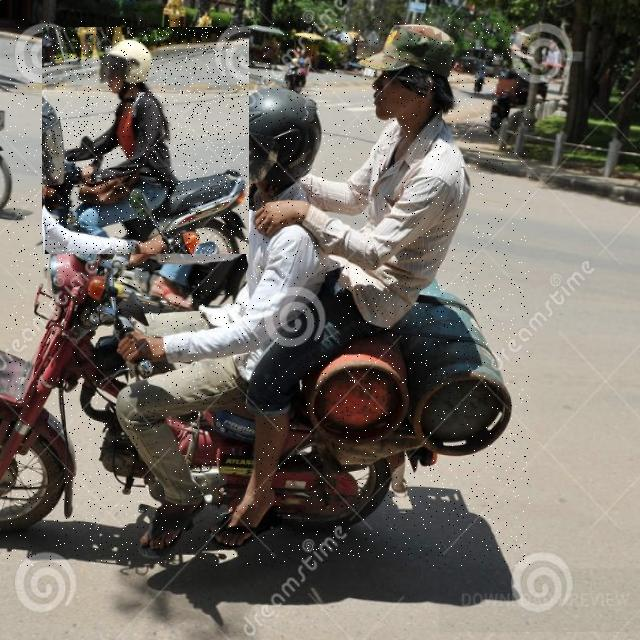With Helmet: (6, 17, 530, 566), (42, 27, 249, 254)
